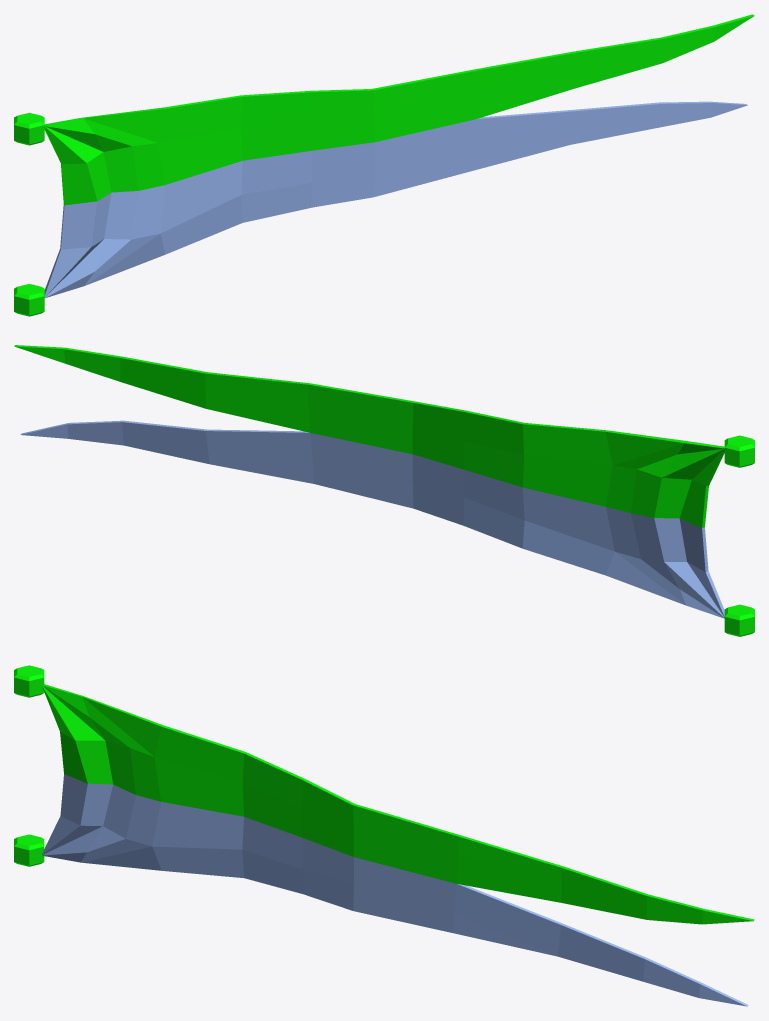
The model's file is SM_Flag_Long_B_Fantasy.fbx.
The picture shows the model from 3 angles, top to bottom: view 1: azimuth 30°, elevation 25°; view 2: azimuth 150°, elevation 25°; view 3: azimuth 330°, elevation 25°; orthographic projection.
Parts seen in each view (by area): view 1: flag-long-b-fantasy; view 2: flag-long-b-fantasy; view 3: flag-long-b-fantasy.
Boxes of the visible parts, x1,y1,x2,y2 form: flag-long-b-fantasy: (14,14,754,316); flag-long-b-fantasy: (14,345,754,636); flag-long-b-fantasy: (14,665,754,1006).
Size of the model in its own units: 2.18 by 0.5365 by 0.0804.
